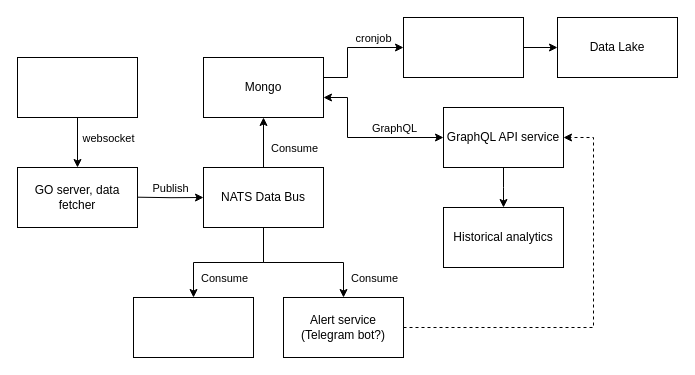
This 695x375 diagram has some shape labels left out. Here are the shapes that lost their labels. From the top down, the box of each, then its label:
(402, 16, 524, 78): Archival ETL
(16, 56, 138, 118): Binance API
(132, 296, 254, 358): Stream analytics
